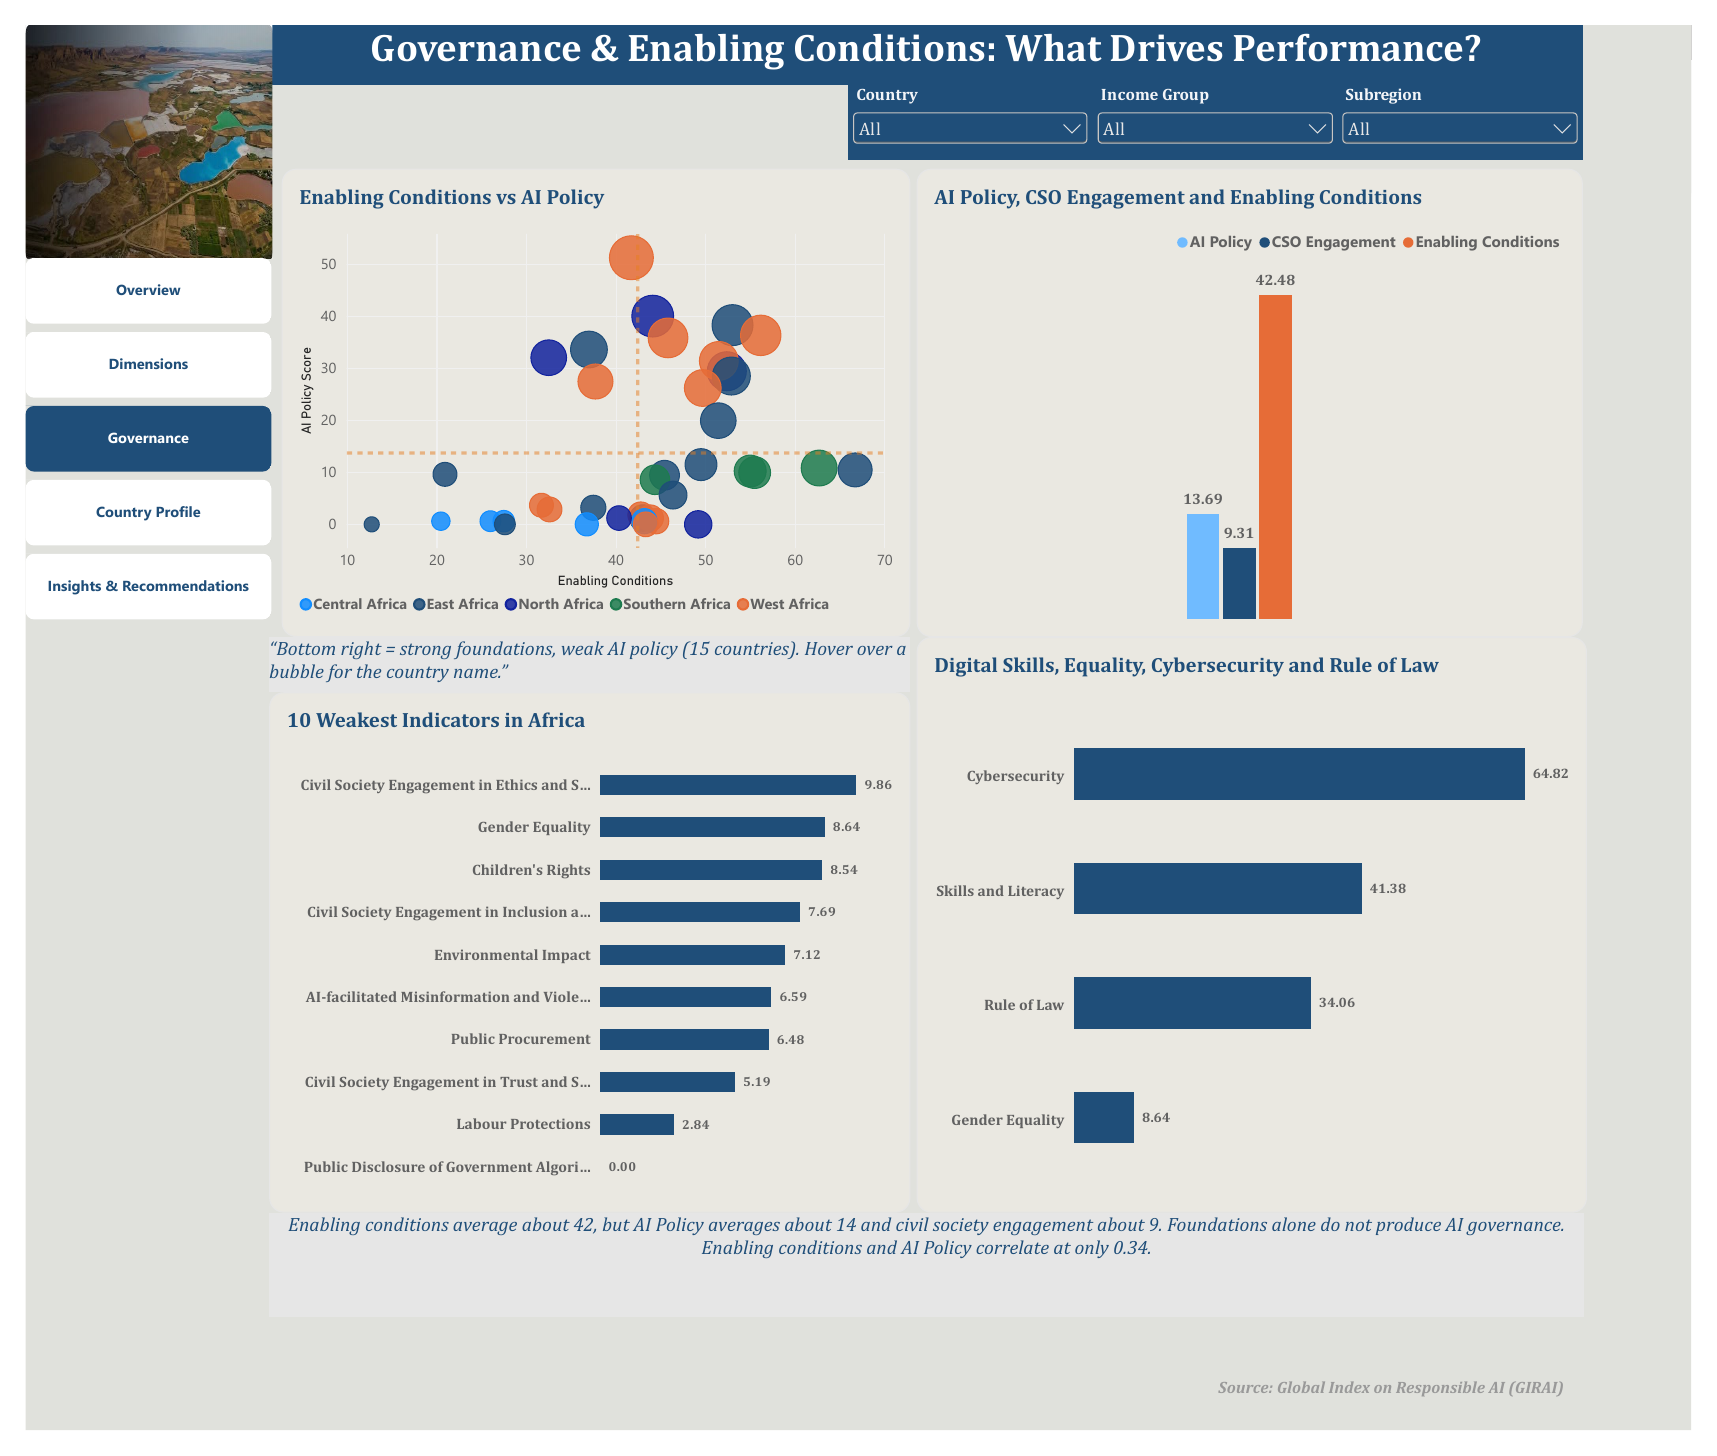

The page's visual inventory and layout, read from the dashboard file:
{"tool":"powerbi","page":{"name":"Governance","canvas":[1600,1350],"ordinal":2},"visuals":[{"type":"textbox","box":[235.4,0,1260.4,58.3],"z":0},{"type":"slicer","fields":{"Values":["Dim_Country.Subregion"]},"box":[1260.4,58.3,235.7,71.4],"z":1000},{"type":"slicer","fields":{"Values":["Dim_Country.Income Group"]},"box":[1025,58.3,235.7,71.4],"z":2000},{"type":"slicer","fields":{"Values":["Dim_Country.Country"]},"box":[789.6,58.3,235.7,71.4],"z":3000},{"type":"textbox","box":[1145.7,1300,388.6,48.6],"z":4000},{"type":"scatterChart","title":"Enabling Conditions vs AI Policy","fields":{"Category":["Dim_Country.Country"],"Series":["Dim_Country.Subregion"],"Size":["Avg(Fact_Scores.GIRAI Score)"],"X":["Avg(Fact_Scores.Enabling Conditions)"],"Y":["Avg(Fact_Scores.AI Policy)"]},"box":[245.8,137.5,604.2,450],"z":5000},{"type":"clusteredColumnChart","fields":{"Y":["Measures (3).Selected AI Policy","Measures (3).Selected CSO Engagement","Measures (3).Selected Enabling Conditions"]},"box":[856.2,137.5,639.6,450],"z":6000},{"type":"clusteredBarChart","title":"10 Weakest Indicators in Africa","fields":{"Category":["Indicators_Long.Indicator"],"Y":["Avg(Indicators_Long.Score)"]},"box":[234.4,640.6,615.6,500],"z":7000},{"type":"clusteredBarChart","title":"Digital Skills, Equality, Cybersecurity and Rule of Law","fields":{"Category":["Indicators_Long.Indicator"],"Y":["Avg(Indicators_Long.Score)"]},"box":[856.2,587.5,643.8,553.1],"z":8000},{"type":"textbox","box":[234.4,1140.6,1262.5,100],"z":9000},{"type":"image","box":[0,0,237.3,223.7],"z":10000},{"type":"pageNavigator","box":[0,223.7,235.6,350.8],"z":11000},{"type":"textbox","box":[234.4,587.5,615.6,53.1],"z":11001}]}

Visuals, with their boxes in screenshot pixels (x1, y1, x2, y2), scaled from the page's 1600x1350 canvas onto the 1717x1456 screenshot:
textbox: l=253, t=0, r=1605, b=63
slicer - Dim_Country.Subregion: l=1353, t=63, r=1606, b=140
slicer - Dim_Country.Income Group: l=1100, t=63, r=1353, b=140
slicer - Dim_Country.Country: l=847, t=63, r=1100, b=140
textbox: l=1229, t=1402, r=1646, b=1454
"Enabling Conditions vs AI Policy" scatterChart: l=264, t=148, r=912, b=634
clusteredColumnChart - Measures (3).Selected AI Policy x Measures (3).Selected CSO Engagement: l=919, t=148, r=1605, b=634
"10 Weakest Indicators in Africa" clusteredBarChart: l=252, t=691, r=912, b=1230
"Digital Skills, Equality, Cybersecurity and Rule of Law" clusteredBarChart: l=919, t=634, r=1610, b=1230
textbox: l=252, t=1230, r=1606, b=1338
image: l=0, t=0, r=255, b=241
pageNavigator: l=0, t=241, r=253, b=620
textbox: l=252, t=634, r=912, b=691
